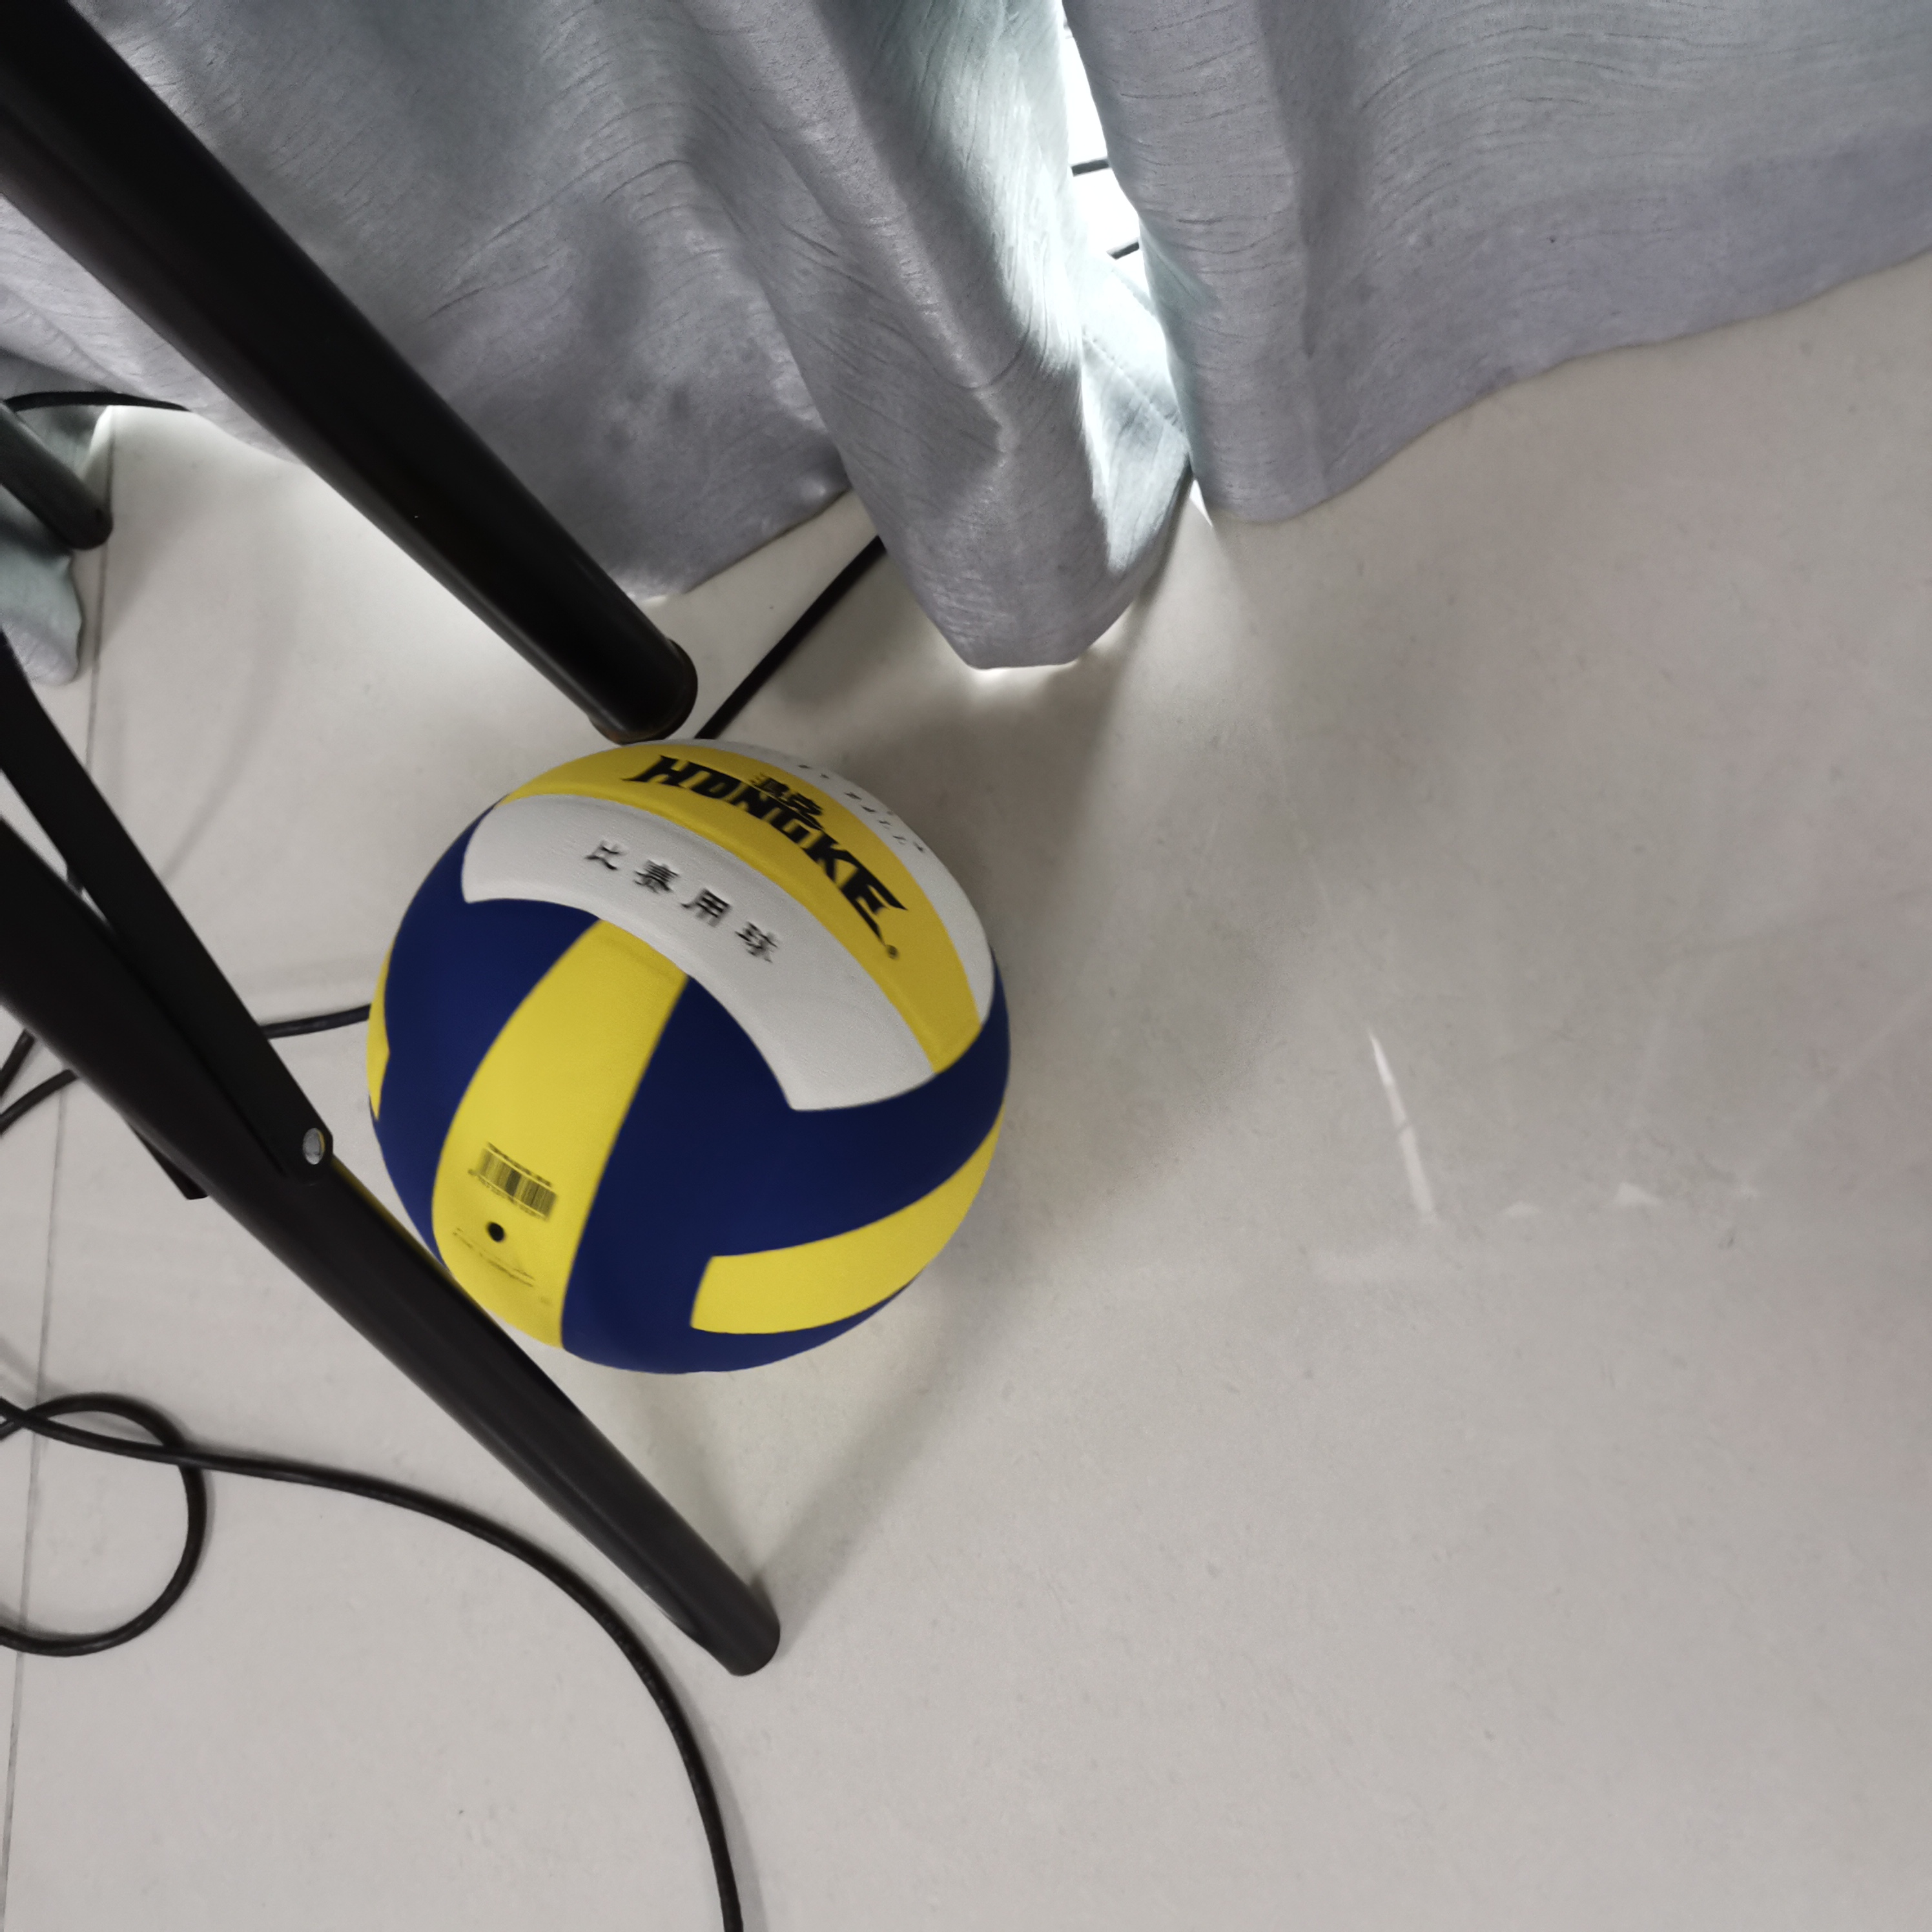volleyball: (363, 743, 1008, 1376)
